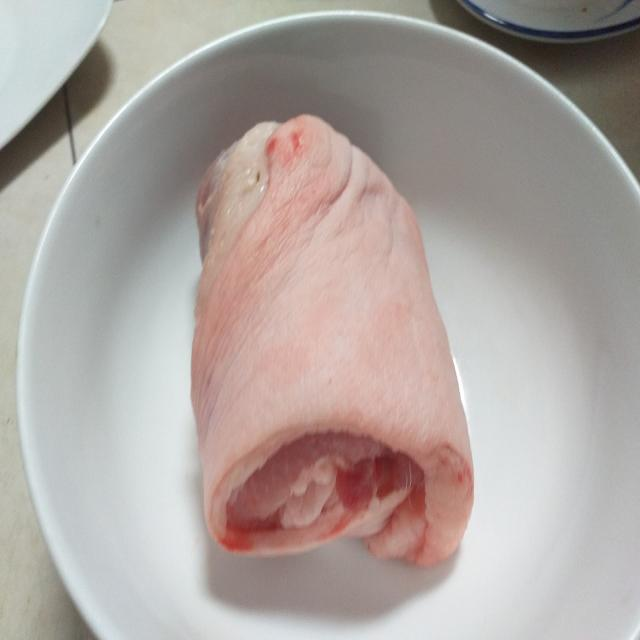chicken: (195, 110, 486, 571)
